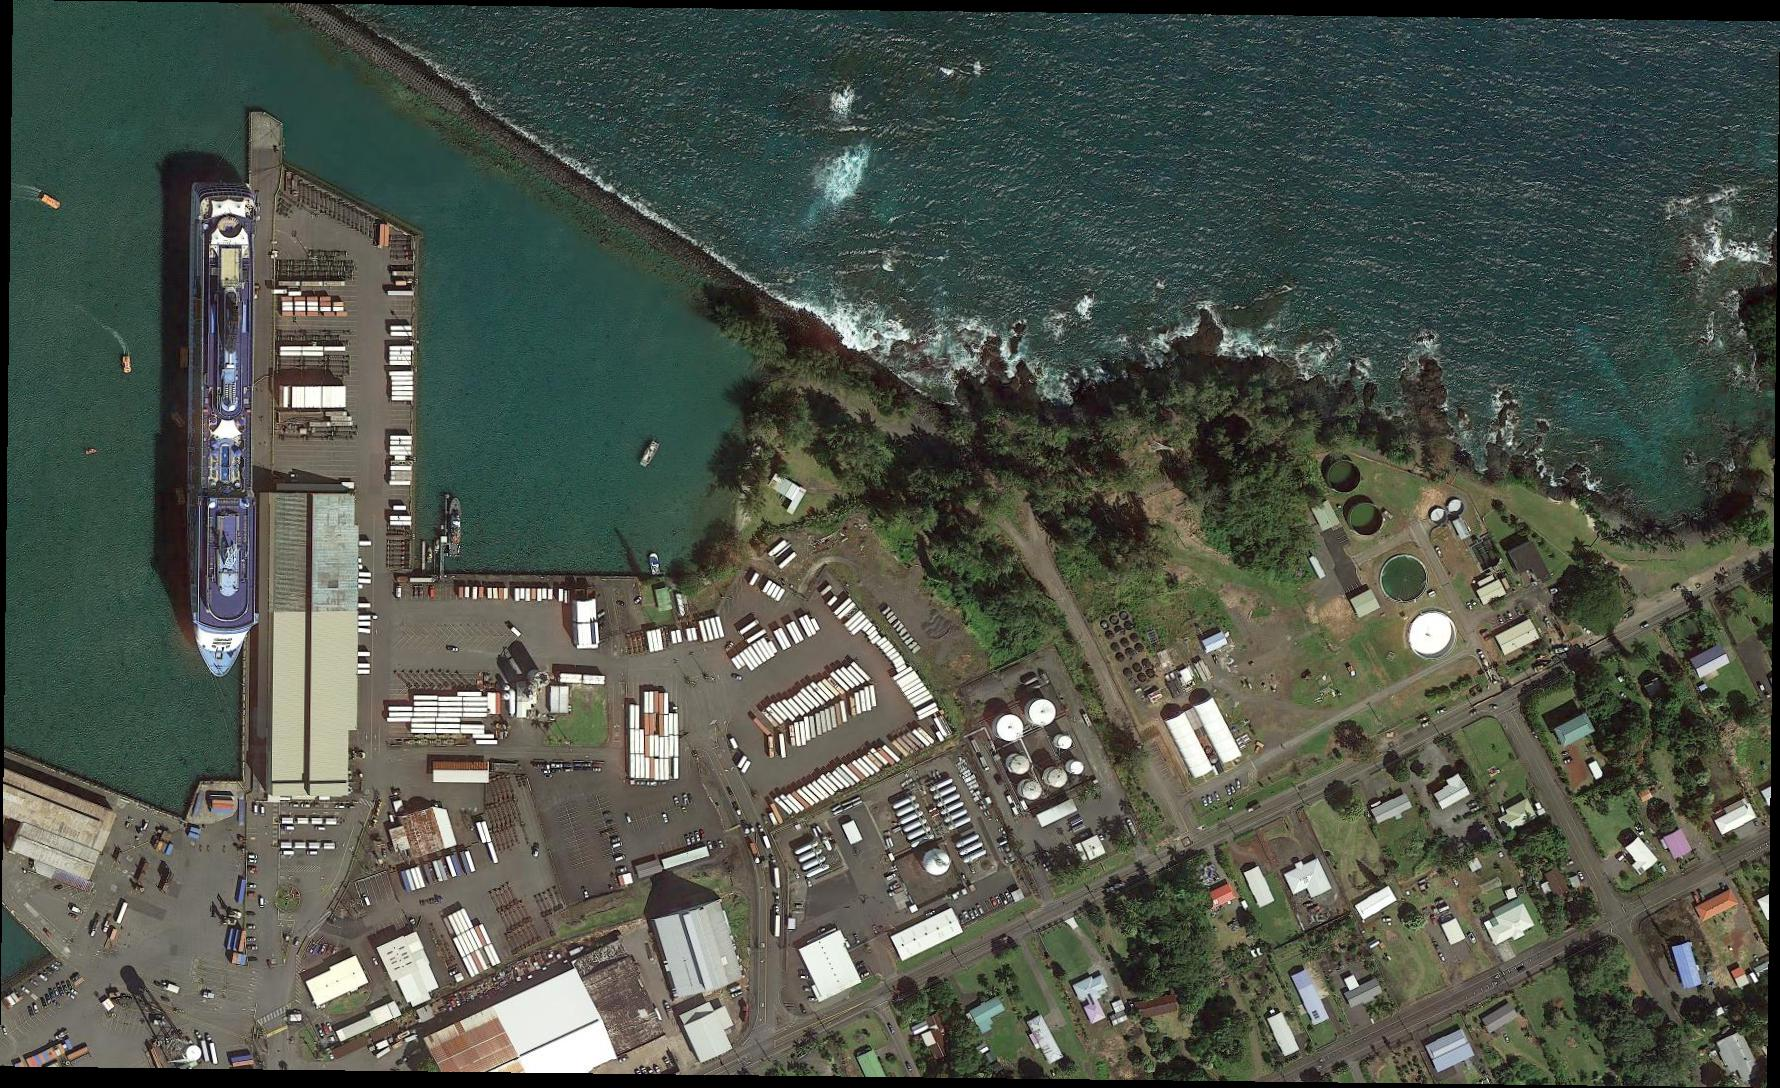harbor: (240, 108, 428, 784), (3, 750, 183, 962)
ship: (177, 175, 259, 683), (446, 498, 463, 557), (637, 439, 662, 469), (41, 193, 62, 210), (648, 552, 662, 576), (170, 409, 187, 430), (175, 488, 187, 506), (181, 348, 189, 369), (122, 356, 132, 374), (425, 547, 434, 564), (1468, 932, 1479, 946), (434, 539, 441, 555), (85, 447, 98, 455)
